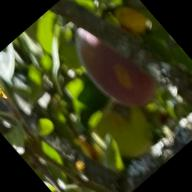Apples: (60, 1, 176, 121)
